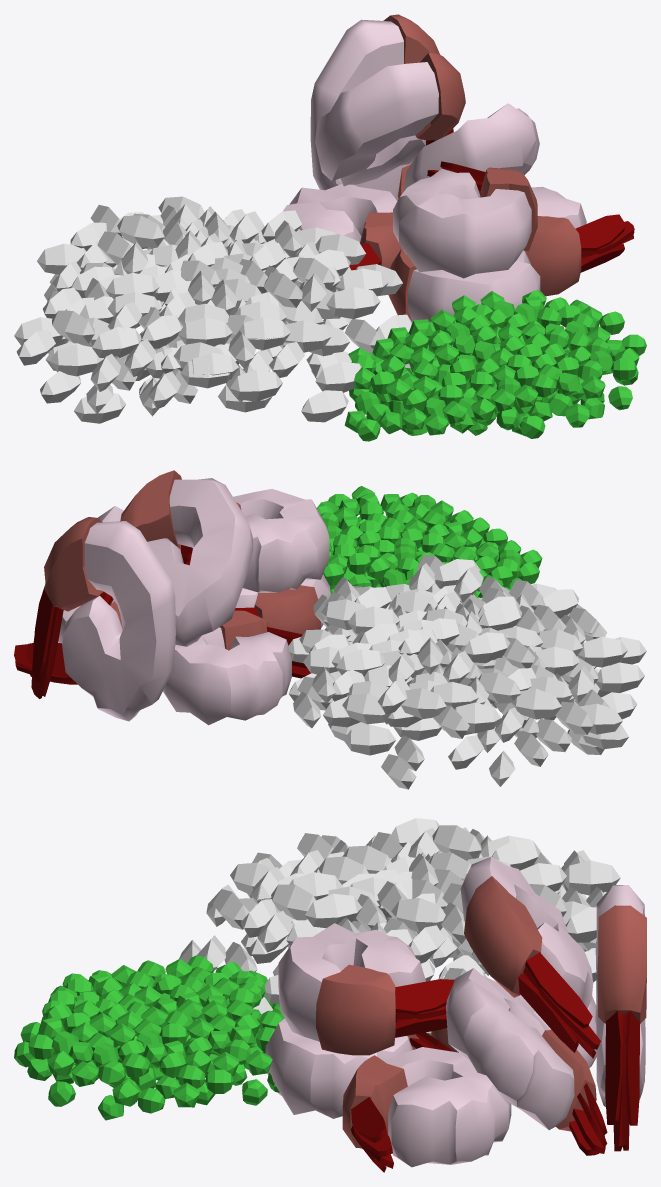
File: paella_mix_model.fbx
3 views of the same model, one above another, from view 1: azimuth 30°, elevation 25°; view 2: azimuth 150°, elevation 25°; view 3: azimuth 270°, elevation 25° (orthographic). The views are drawn at different scales.
Parts seen in each view (by area): view 1: prawns1, rice_pile:rice116, rice_pile:rice124, rice_pile:rice193, rice_pile:rice125, rice_pile:rice27, rice_pile:rice170, rice_pile:rice33, rice_pile:rice126, rice_pile:rice226, rice_pile:rice113, rice_pile:rice123 (+35 smaller); view 2: prawns1, rice_pile:rice122, rice_pile:rice84, rice_pile:rice139, rice_pile:rice72, rice_pile:rice10, rice_pile:rice46, rice_pile:rice234, rice_pile:rice179, rice_pile:rice83, rice_pile:rice6, rice_pile:rice82 (+44 smaller); view 3: prawns1, rice_pile:rice176, rice_pile:rice75, rice_pile:rice13, rice_pile:rice10, rice_pile:rice44, rice_pile:rice33, rice_pile:rice51, rice_pile:rice116, rice_pile:rice118, rice_pile:rice7, rice_pile:rice82 (+31 smaller).
Part boxes in pixels (x1=…): prawns1: x1=283, y1=14, x2=634, y2=322; rice_pile:rice116: x1=326, y1=287, x2=380, y2=319; rice_pile:rice124: x1=230, y1=369, x2=282, y2=401; rice_pile:rice193: x1=49, y1=344, x2=103, y2=376; rice_pile:rice125: x1=178, y1=317, x2=232, y2=346; rice_pile:rice27: x1=92, y1=327, x2=141, y2=358; rice_pile:rice170: x1=301, y1=390, x2=348, y2=422; rice_pile:rice33: x1=117, y1=215, x2=164, y2=247; rice_pile:rice126: x1=52, y1=310, x2=94, y2=343; rice_pile:rice226: x1=285, y1=320, x2=330, y2=352; rice_pile:rice113: x1=315, y1=361, x2=361, y2=392; rice_pile:rice123: x1=37, y1=243, x2=86, y2=274; prawns1: x1=14, y1=470, x2=330, y2=725; rice_pile:rice122: x1=343, y1=724, x2=395, y2=755; rice_pile:rice84: x1=596, y1=662, x2=644, y2=692; rice_pile:rice139: x1=510, y1=688, x2=561, y2=719; rice_pile:rice72: x1=577, y1=637, x2=627, y2=667; rice_pile:rice10: x1=463, y1=632, x2=510, y2=663; rice_pile:rice46: x1=400, y1=688, x2=446, y2=719; rice_pile:rice234: x1=342, y1=693, x2=391, y2=724; rice_pile:rice179: x1=455, y1=702, x2=501, y2=733; rice_pile:rice83: x1=478, y1=672, x2=521, y2=703; rice_pile:rice6: x1=348, y1=606, x2=399, y2=633; rice_pile:rice82: x1=478, y1=603, x2=521, y2=630; prawns1: x1=265, y1=857, x2=646, y2=1172; rice_pile:rice176: x1=563, y1=860, x2=620, y2=895; rice_pile:rice75: x1=305, y1=893, x2=361, y2=928; rice_pile:rice13: x1=391, y1=898, x2=445, y2=932; rice_pile:rice10: x1=432, y1=825, x2=481, y2=860; rice_pile:rice44: x1=271, y1=884, x2=316, y2=920; rice_pile:rice33: x1=491, y1=839, x2=540, y2=870; rice_pile:rice51: x1=520, y1=863, x2=566, y2=891; rice_pile:rice116: x1=257, y1=911, x2=292, y2=952; rice_pile:rice118: x1=565, y1=907, x2=596, y2=942; rice_pile:rice7: x1=408, y1=925, x2=445, y2=963; rice_pile:rice82: x1=342, y1=845, x2=391, y2=873.
Size of the model in its own units: 57.78 by 22.38 by 48.54.
